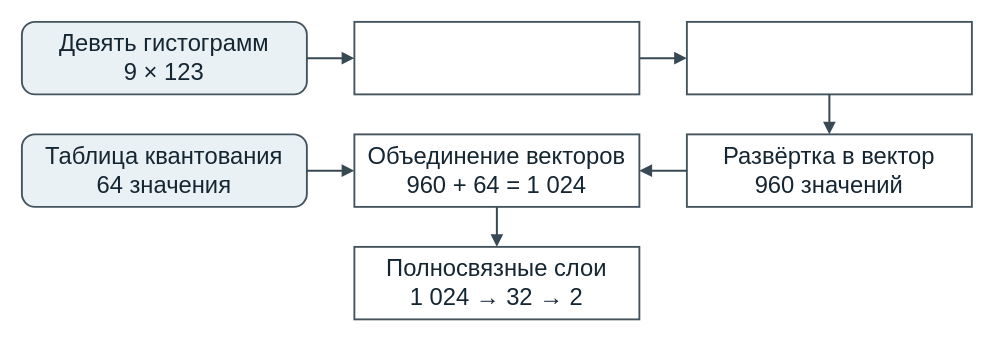
The diagram is 995 pixels wide and 343 high, and some of its shapes have lost their labels. The shapes that lost their labels are listed below. From the top down, each one's box as (x1, y1, x2, y2) in pixels, then its label:
(353, 20, 640, 95): Свёртка и ReLU Усреднение → 16 × 61
(685, 20, 972, 95): Свёртка и ReLU Усреднение → 32 × 30
